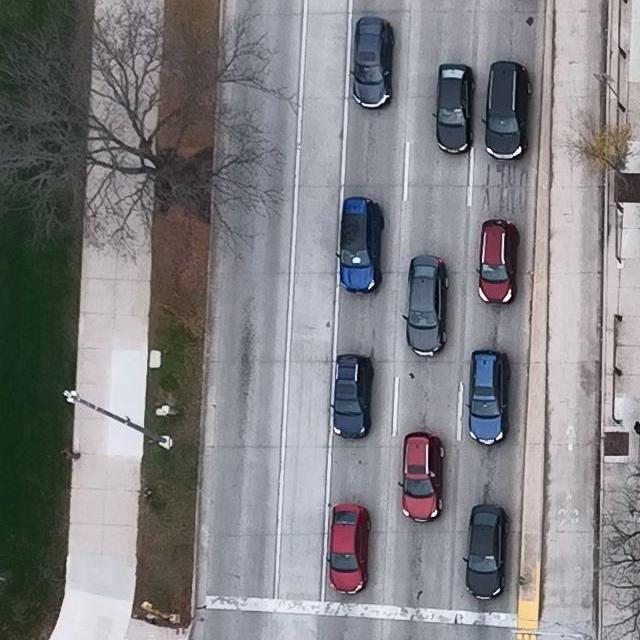car: (481, 62, 531, 161), (334, 196, 384, 295), (402, 253, 449, 357), (397, 431, 445, 522), (465, 350, 510, 447), (463, 504, 508, 600), (326, 503, 371, 595), (350, 17, 394, 109), (432, 64, 475, 154), (475, 219, 520, 305), (330, 353, 374, 438)
